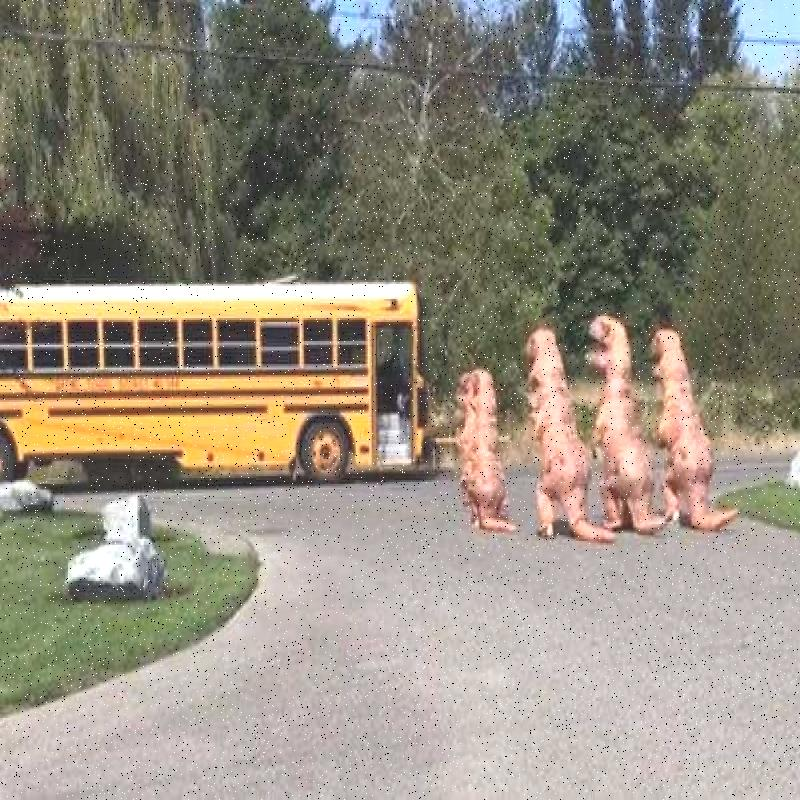bus: (4, 241, 448, 509)
